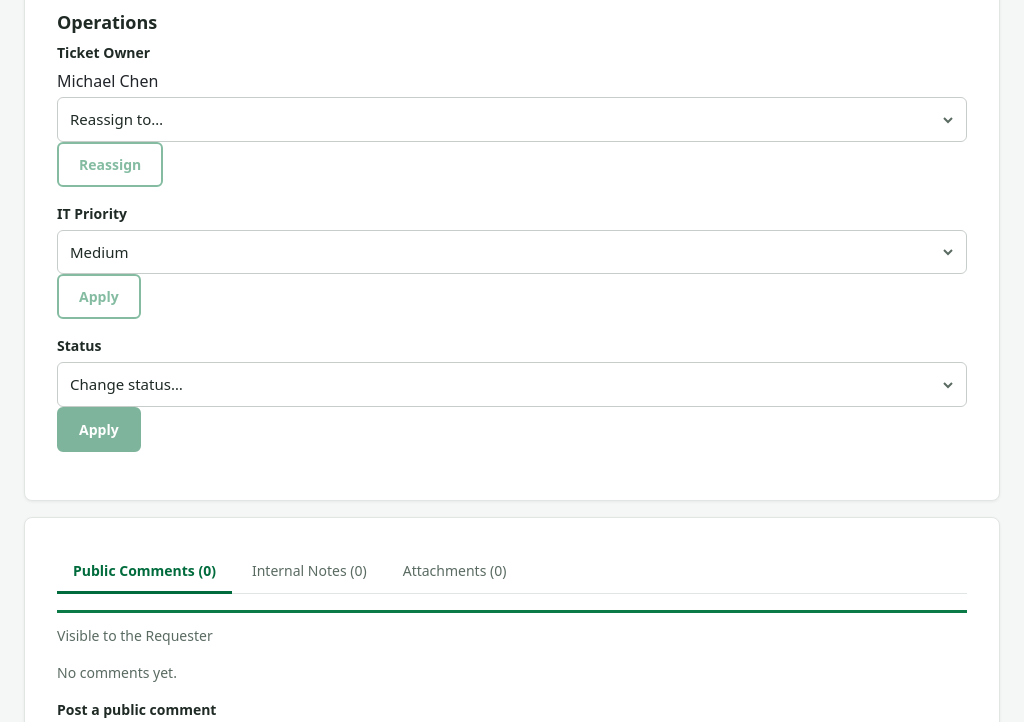
Scenario: UI-L4-08: status control transitions and double-submit › UI-L4-08: offers only the allowed transitions and blocks a double submit (AC-11, AC-21)
(page scrolled)
Select "In Progress" in the dropdown labelled "Status" at (512, 385), box [57,362,967,407]
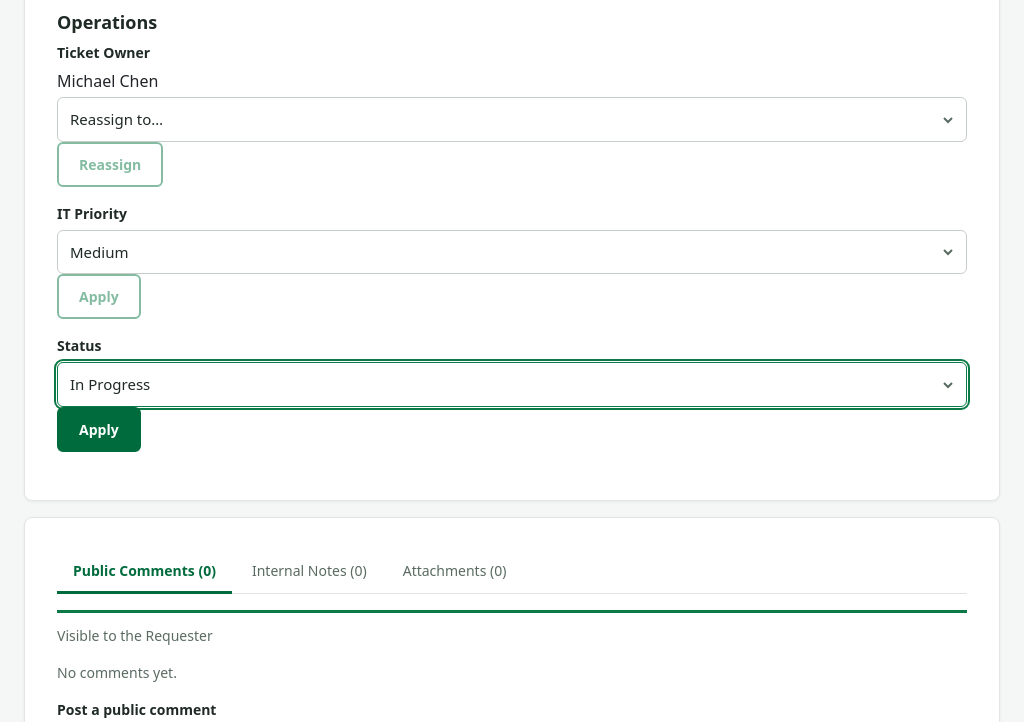
Click the button with aria-label "apply status change".
click(99, 429)  # box [57,407,141,452]
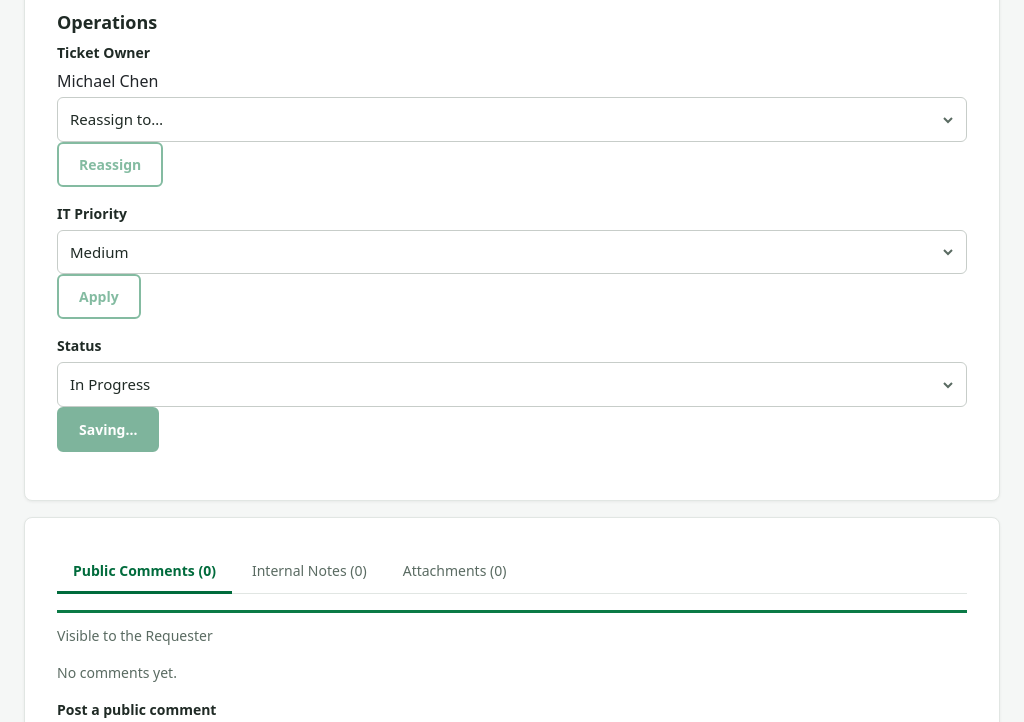
Now the button with aria-label "apply status change" is disabled
Click the button with aria-label "apply status change".
click(108, 429)  # box [57,407,159,452]
(page scrolled)
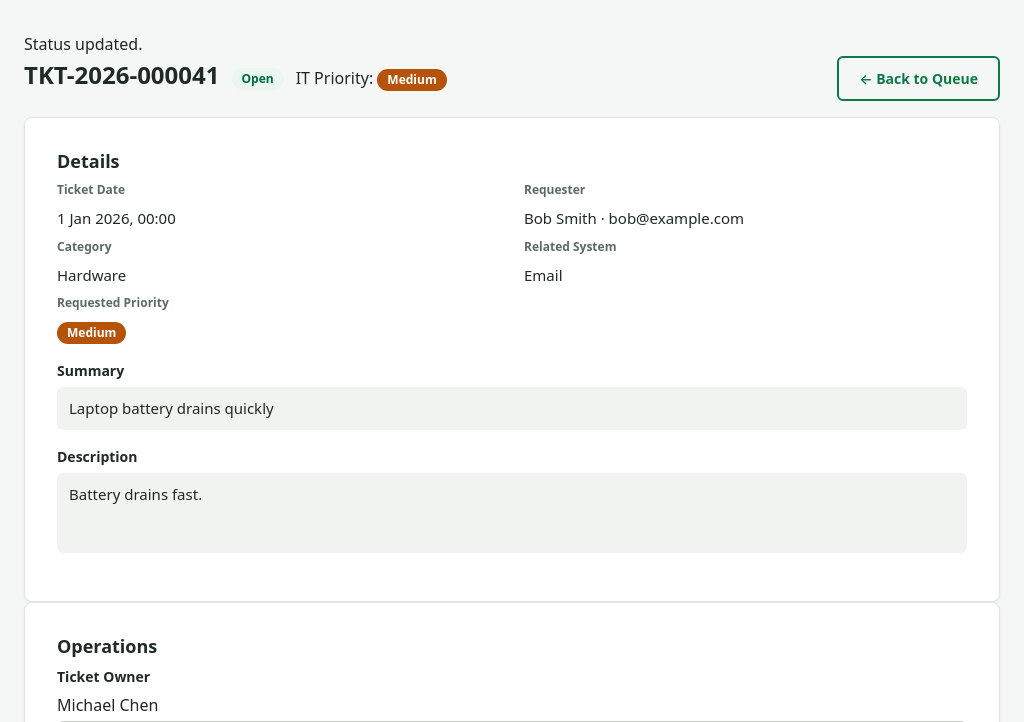
Now the message with test id "toast" shows "Status updated", box [24,33,142,55]
